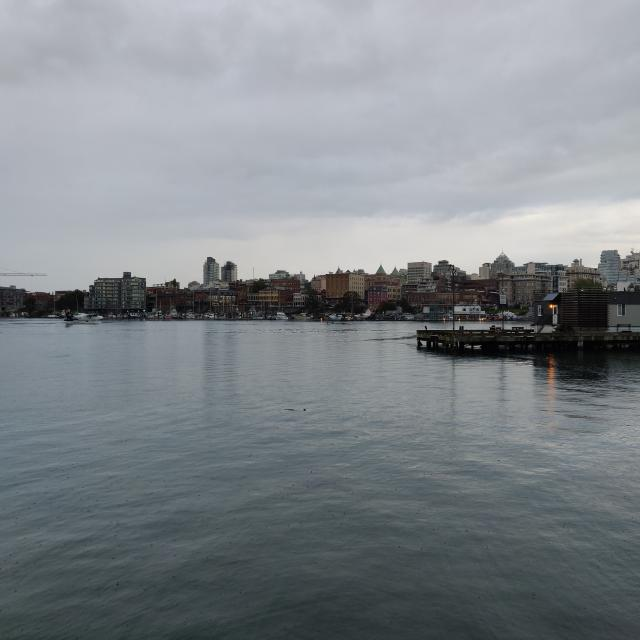aircraft: (65, 306, 104, 323), (319, 313, 352, 324), (354, 311, 375, 320)
boat: (292, 310, 313, 320), (274, 311, 288, 320)
debris: (284, 406, 307, 413)
